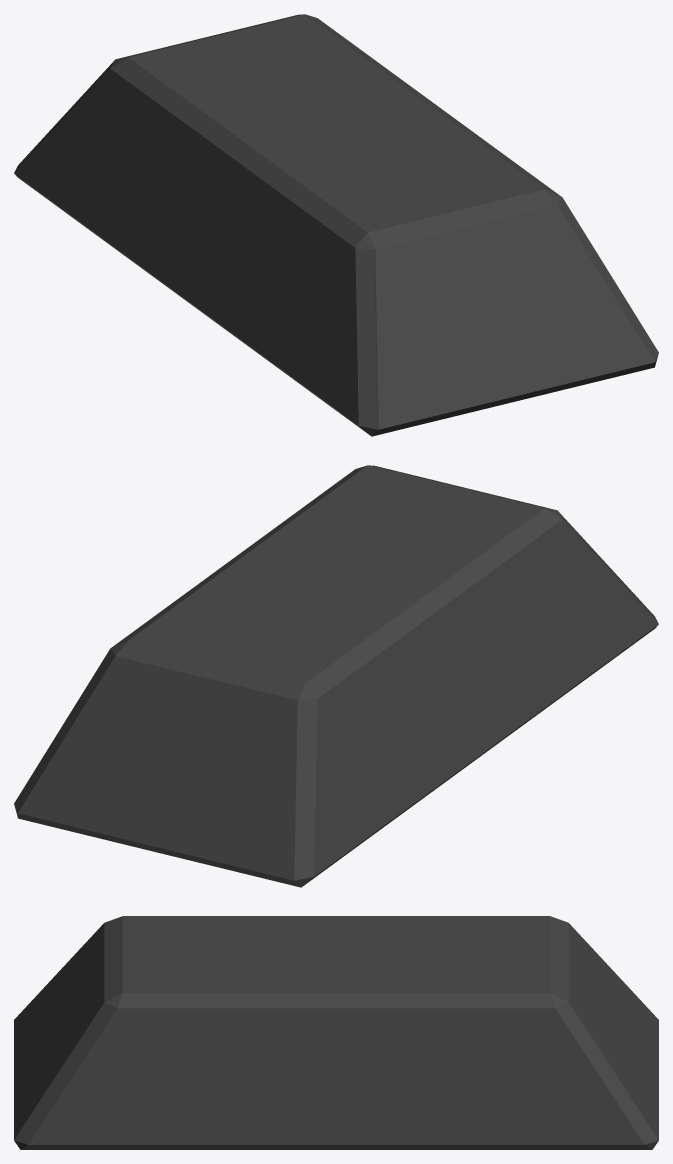
The model's file is Iron_Ingot.glb.
3 renders of one model, top to bottom at view 1: azimuth 30°, elevation 25°; view 2: azimuth 150°, elevation 25°; view 3: azimuth 270°, elevation 25°, orthographic. The views are drawn at different scales.
Parts seen in each view (by area): view 1: Cube; view 2: Cube; view 3: Cube.
Part boxes in pixels (<box>): Cube: <box>14,14,658,436</box>; Cube: <box>14,465,658,887</box>; Cube: <box>14,916,658,1149</box>.
Bounding box in the file's own units: 0.8246 × 0.3918 × 1.72.
1 material, 1 textured.
